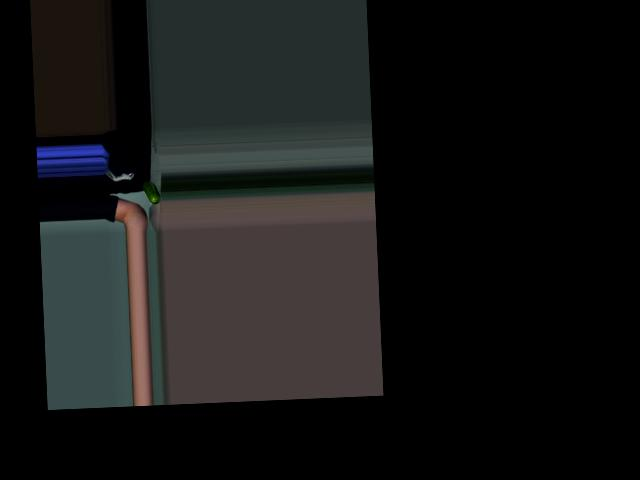cucumber: (142, 180, 161, 205)
